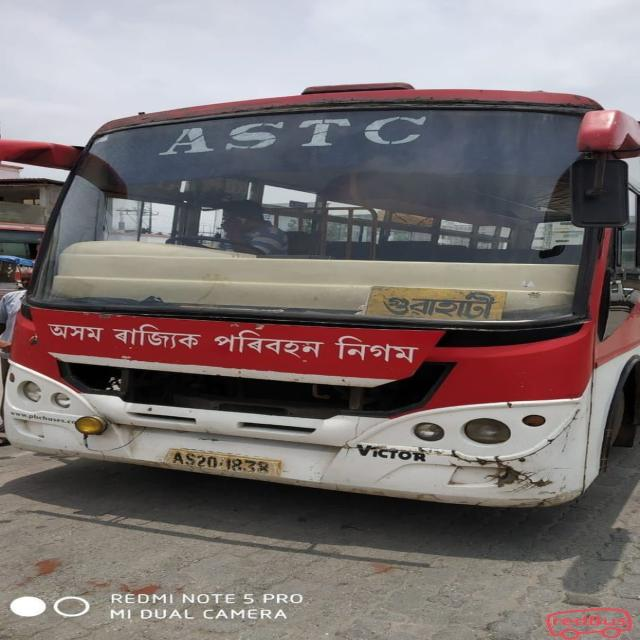Bus: (2, 56, 640, 533)
